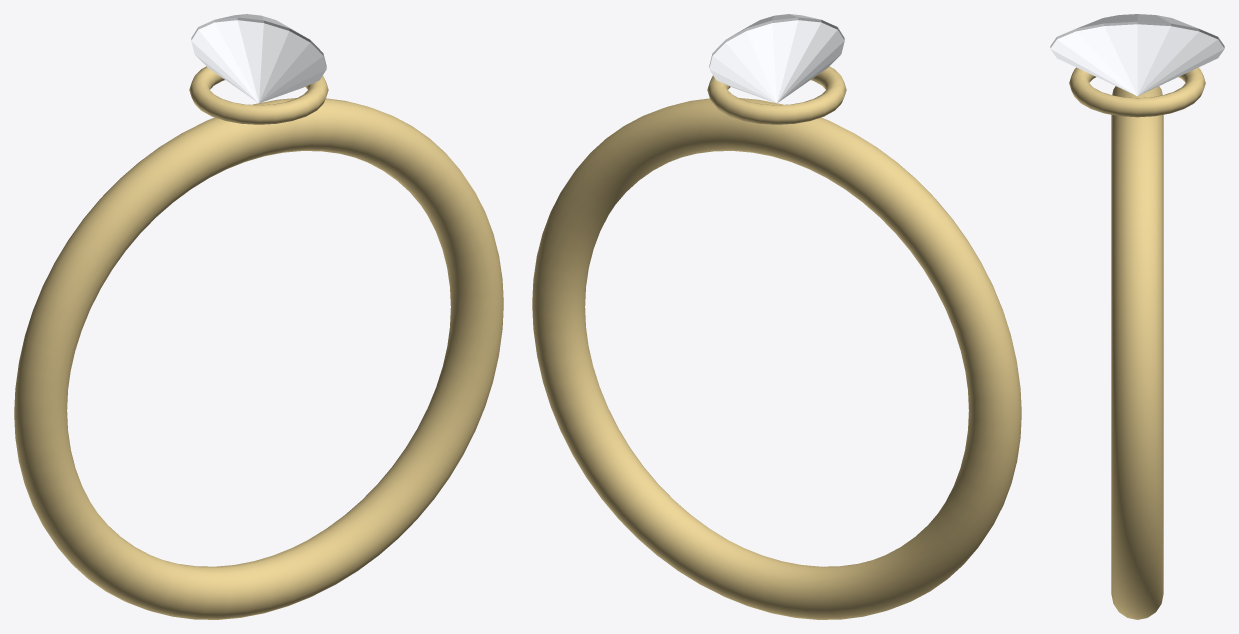
Rendered from ring-solitaire-oval.glb.
3 views of the same model, side by side, from view 1: azimuth 30°, elevation 25°; view 2: azimuth 150°, elevation 25°; view 3: azimuth 270°, elevation 25° (orthographic).
Parts seen in each view (by area): view 1: band, stone, head; view 2: band, stone, head; view 3: band, stone, head.
Part boxes in pixels (x1,y1,x2,y2): band: [14, 98, 503, 619]; stone: [191, 14, 326, 103]; head: [189, 66, 328, 124]; band: [532, 98, 1021, 619]; stone: [709, 14, 844, 103]; head: [707, 66, 846, 124]; band: [1111, 86, 1163, 619]; stone: [1050, 14, 1224, 95]; head: [1069, 67, 1205, 117].
Size of the model in its own units: 1.88 by 2.15 by 0.6.
